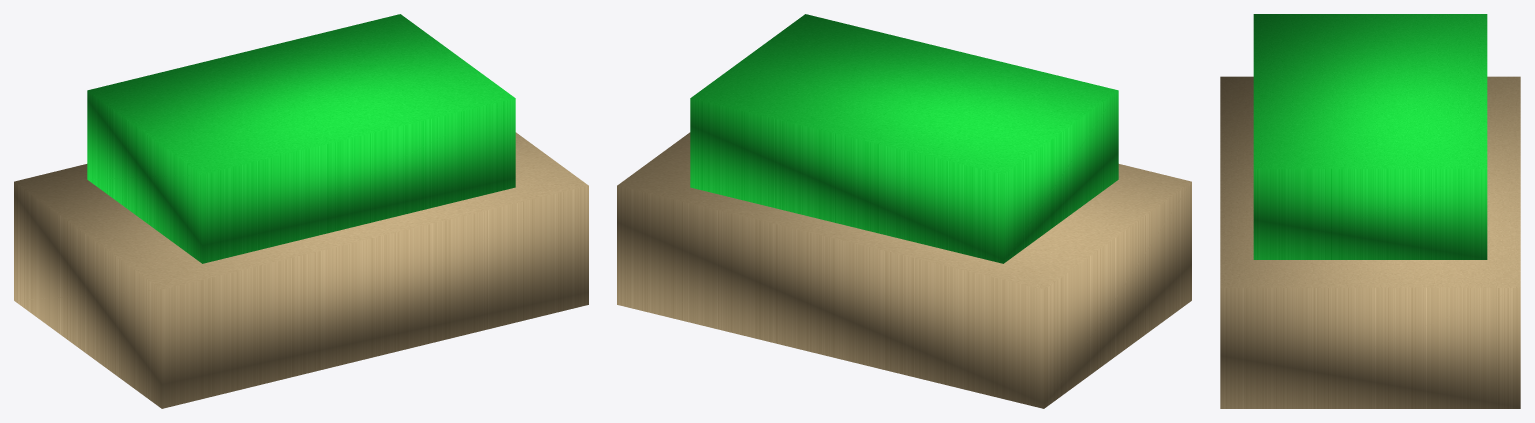
File: 064_L101_LED1.obj
3 views of the same model, side by side, from view 1: azimuth 30°, elevation 25°; view 2: azimuth 150°, elevation 25°; view 3: azimuth 270°, elevation 25° (orthographic).
Parts seen in each view (by area): view 1: LED_Ceramic_Base_0__PSMAT__Ceramic_Tan, LED_Lens_1__PSMAT__LED_Green; view 2: LED_Ceramic_Base_0__PSMAT__Ceramic_Tan, LED_Lens_1__PSMAT__LED_Green; view 3: LED_Lens_1__PSMAT__LED_Green, LED_Ceramic_Base_0__PSMAT__Ceramic_Tan.
Boxes of the visible parts, x1,y1,x2,y2 form: LED_Ceramic_Base_0__PSMAT__Ceramic_Tan: (14,132,588,408); LED_Lens_1__PSMAT__LED_Green: (87,14,515,263); LED_Ceramic_Base_0__PSMAT__Ceramic_Tan: (617,132,1191,408); LED_Lens_1__PSMAT__LED_Green: (690,14,1118,263); LED_Lens_1__PSMAT__LED_Green: (1253,14,1487,259); LED_Ceramic_Base_0__PSMAT__Ceramic_Tan: (1220,76,1520,408).
Size of the model in its own units: 0.003 by 0.0014 by 0.0018.
